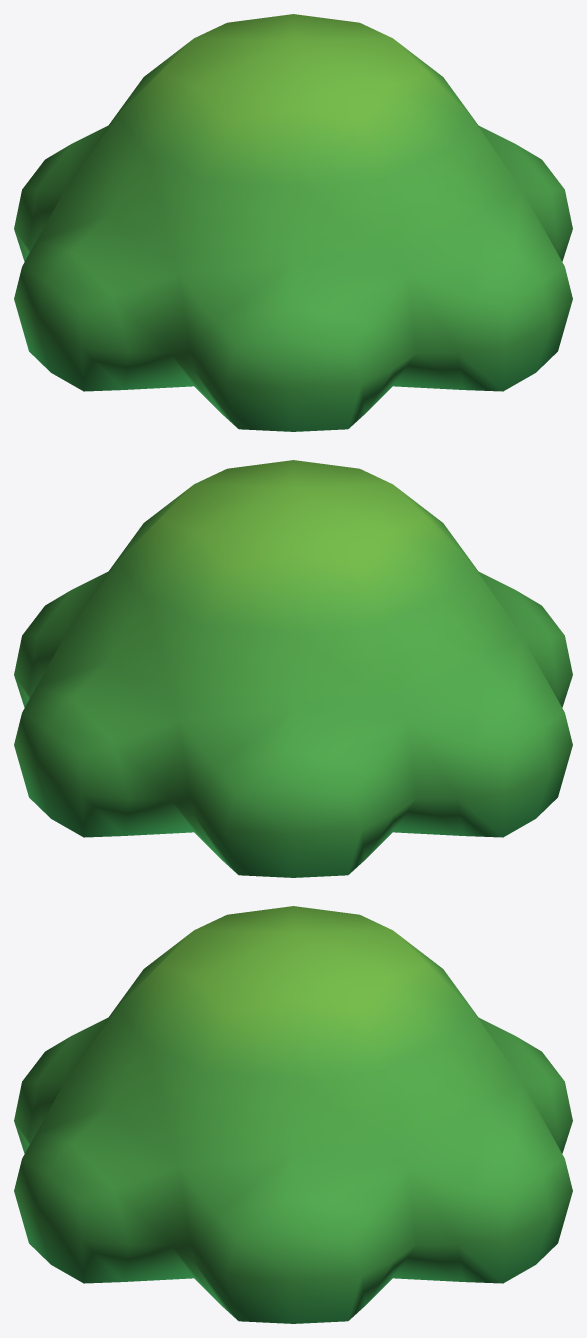
Rendered from bush_large.fbx.
3 views of the same model, one above another, from view 1: azimuth 30°, elevation 25°; view 2: azimuth 150°, elevation 25°; view 3: azimuth 270°, elevation 25° (orthographic).
Visible parts, largest first — view 1: bush_large; view 2: bush_large; view 3: bush_large.
Part boxes in pixels (x1,y1,x2,y2): bush_large: (14,14,572,431); bush_large: (14,460,572,877); bush_large: (14,906,572,1323).
Size of the model in its own units: 1.5 by 0.7592 by 1.41.
